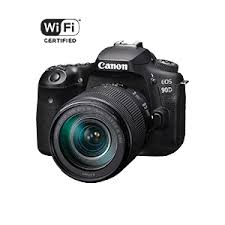camera: (37, 47, 186, 180)
